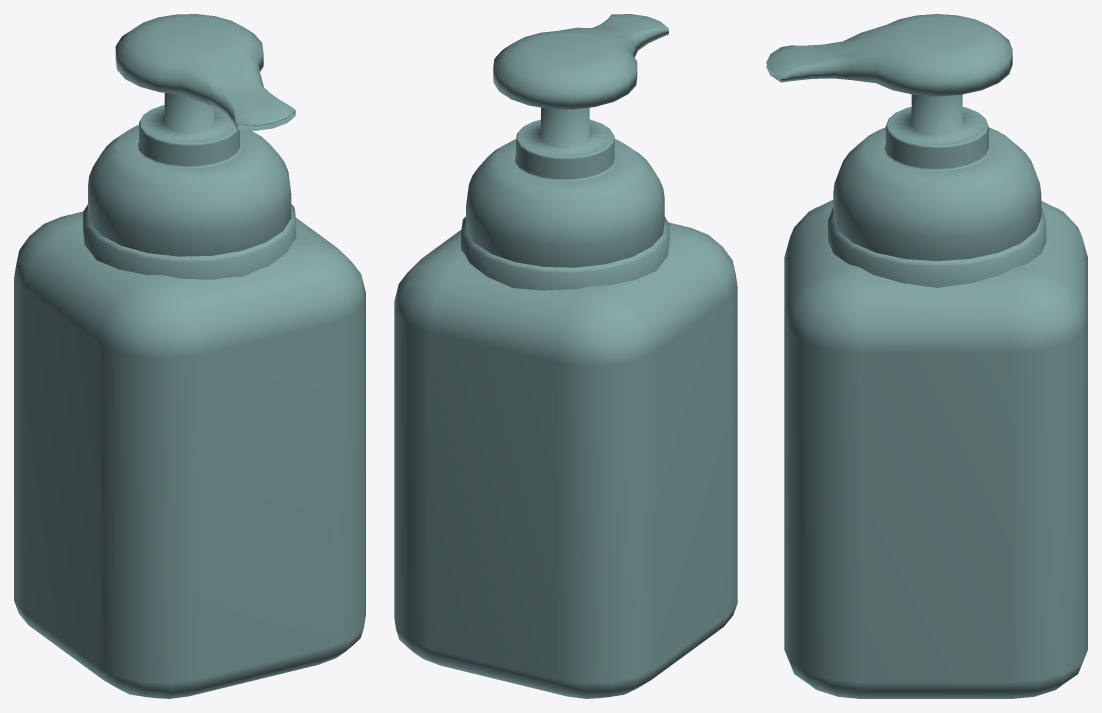
File: Soap_Bottle_PROP.FBX
3 views of the same model, side by side, from view 1: azimuth 30°, elevation 25°; view 2: azimuth 150°, elevation 25°; view 3: azimuth 270°, elevation 25° (orthographic). The views are drawn at different scales.
Parts seen in each view (by area): view 1: pCube2; view 2: pCube2; view 3: pCube2.
Part boxes in pixels (box(x1,y1,x2,y2)): pCube2: box(14, 14, 365, 698); pCube2: box(394, 14, 737, 698); pCube2: box(766, 14, 1087, 698).
Bounding box in the file's own units: 0.0284 × 0.0643 × 0.0302.
